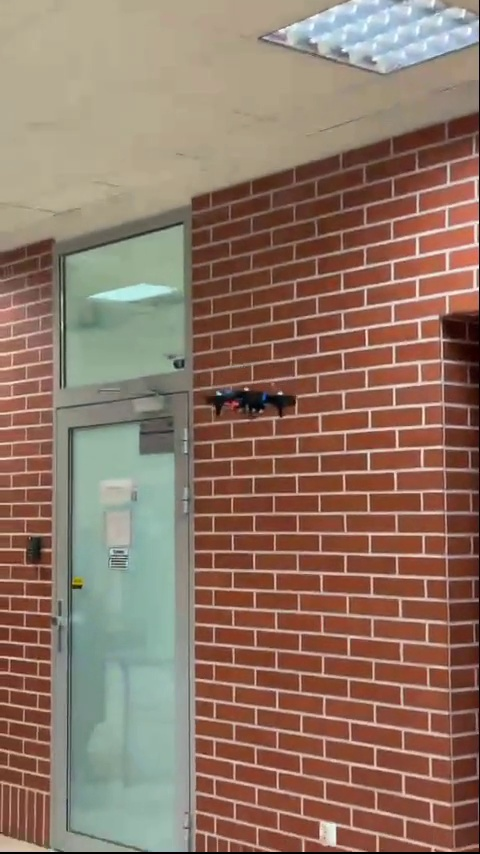drone: (201, 382, 300, 423)
